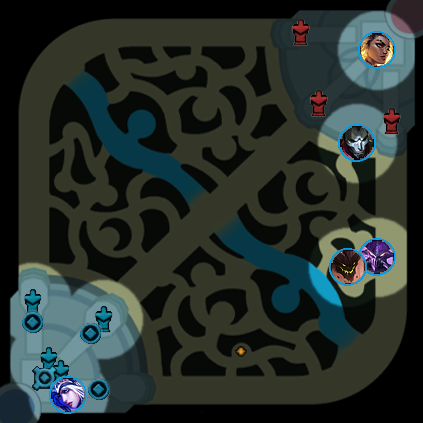Ashe: (49, 376, 87, 414)
Jhin: (338, 124, 376, 162)
Kassadin: (358, 238, 396, 276)
Malphite: (329, 248, 367, 286)
Rell: (358, 31, 396, 69)
